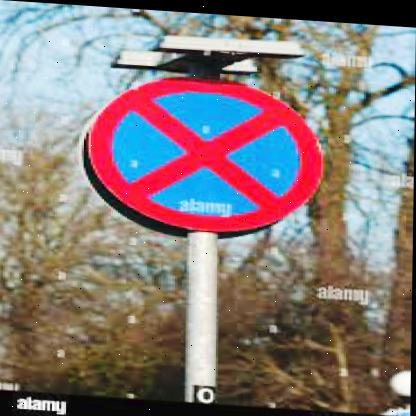No stopping: (93, 73, 320, 245)
